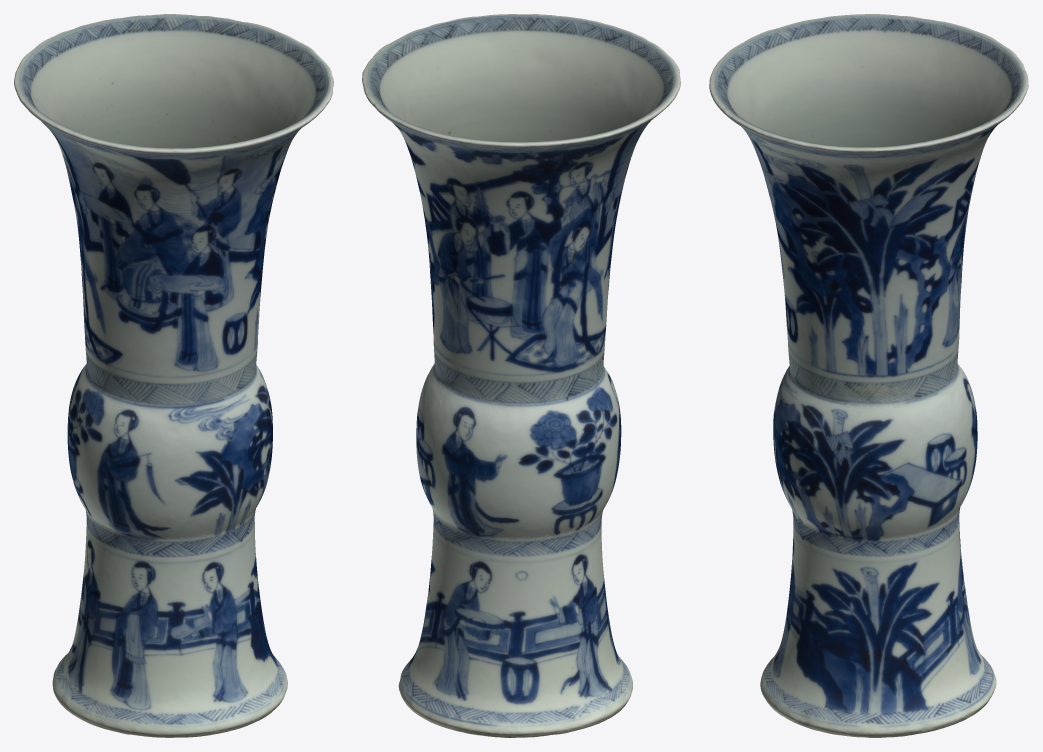
The model's file is qinghuaci.glb.
3 views of the same model, side by side, from view 1: azimuth 30°, elevation 25°; view 2: azimuth 150°, elevation 25°; view 3: azimuth 270°, elevation 25° (orthographic).
Bounding box in the file's own units: 0.2031 × 0.4311 × 0.2038.
Materials: 1 (1 with a texture image).
